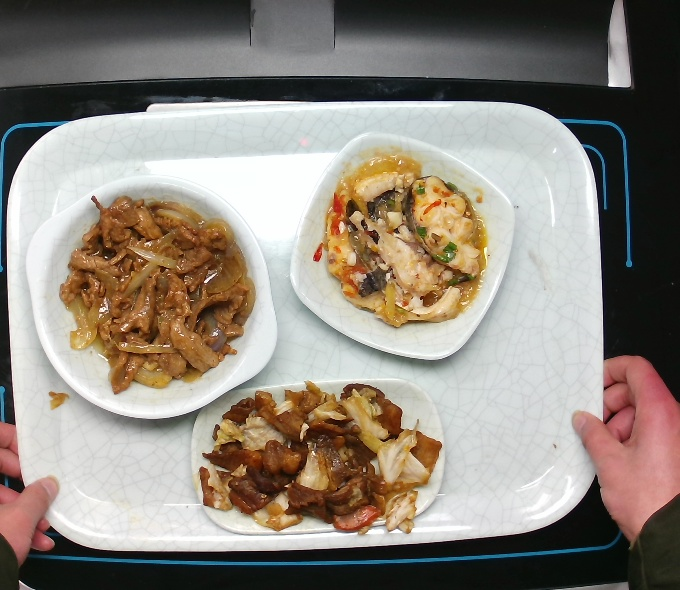wcq-DuoJiaoYuKuai: (317, 159, 485, 330)
wcq-PaoCaiRouPian: (192, 380, 441, 538)
wcq-YangCongRouPian: (61, 201, 248, 394)
